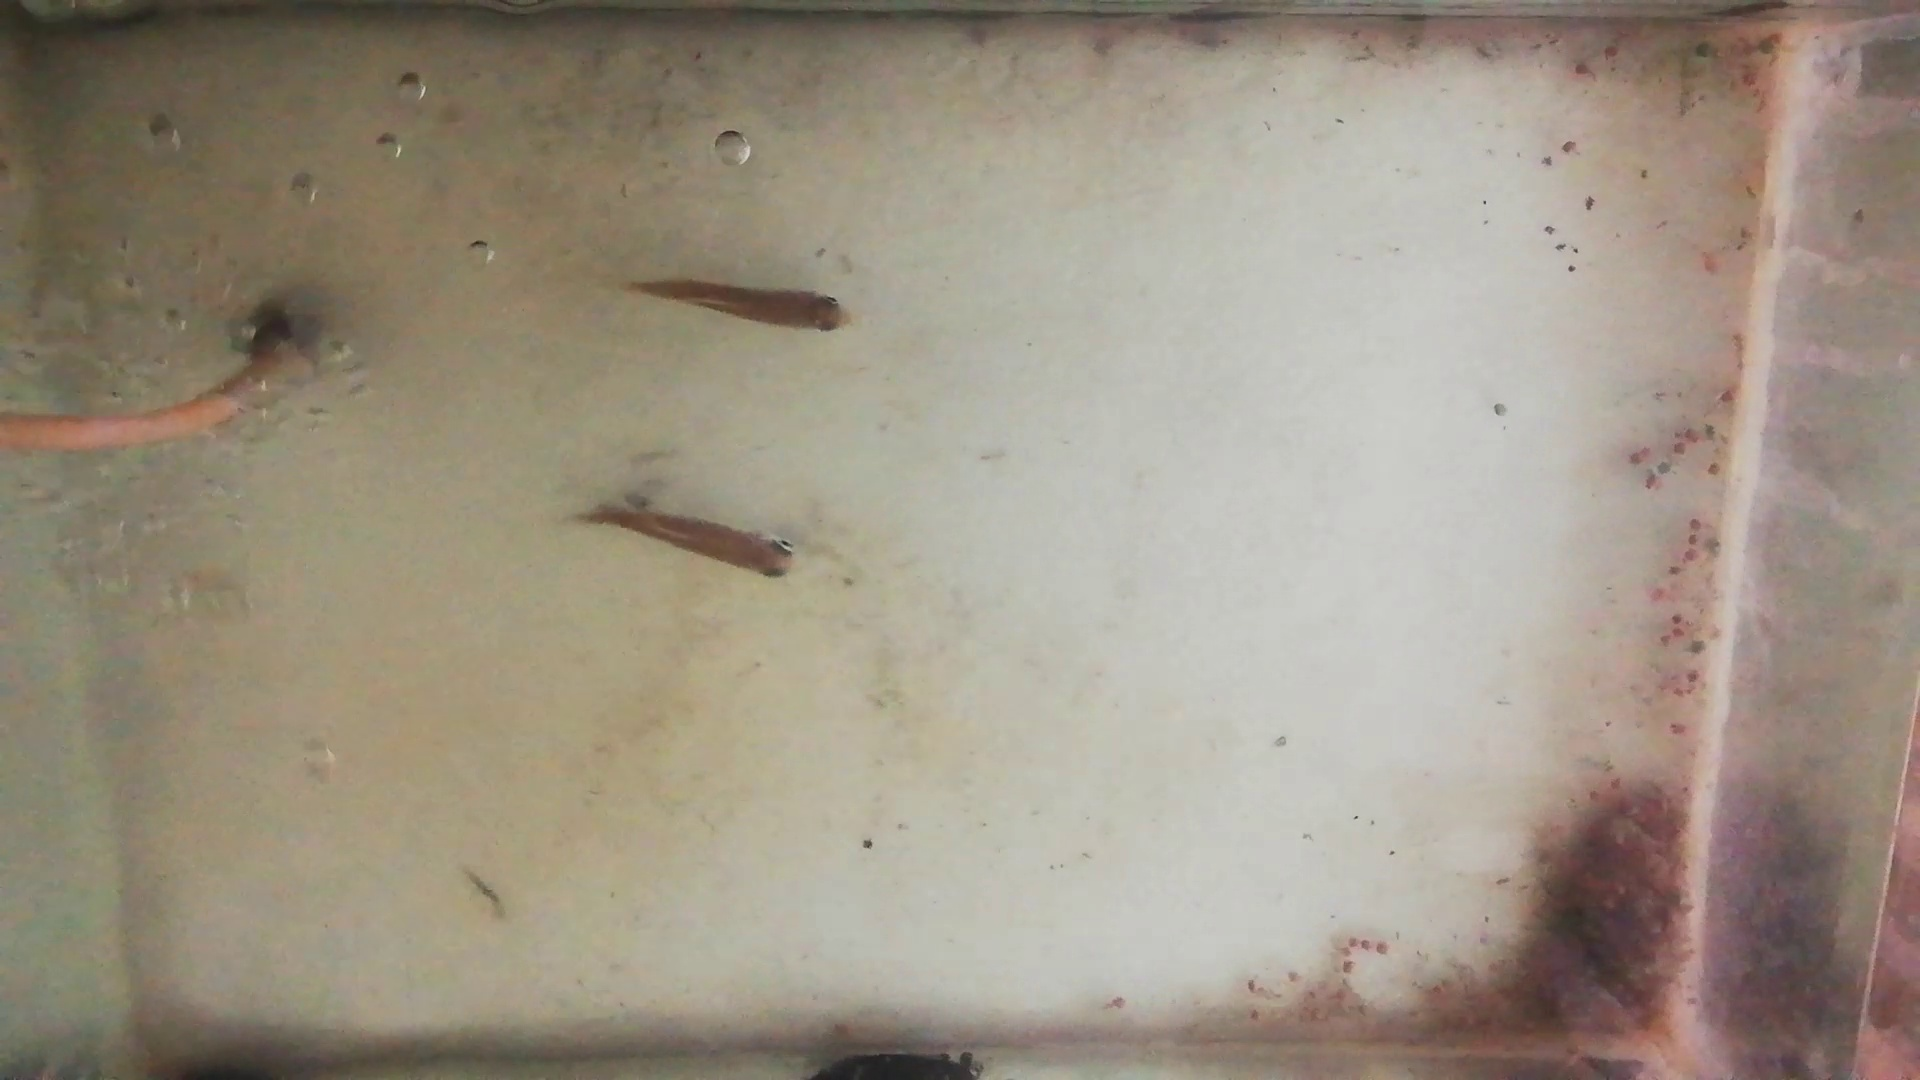fish: (585, 509, 798, 583), (621, 280, 852, 335)
